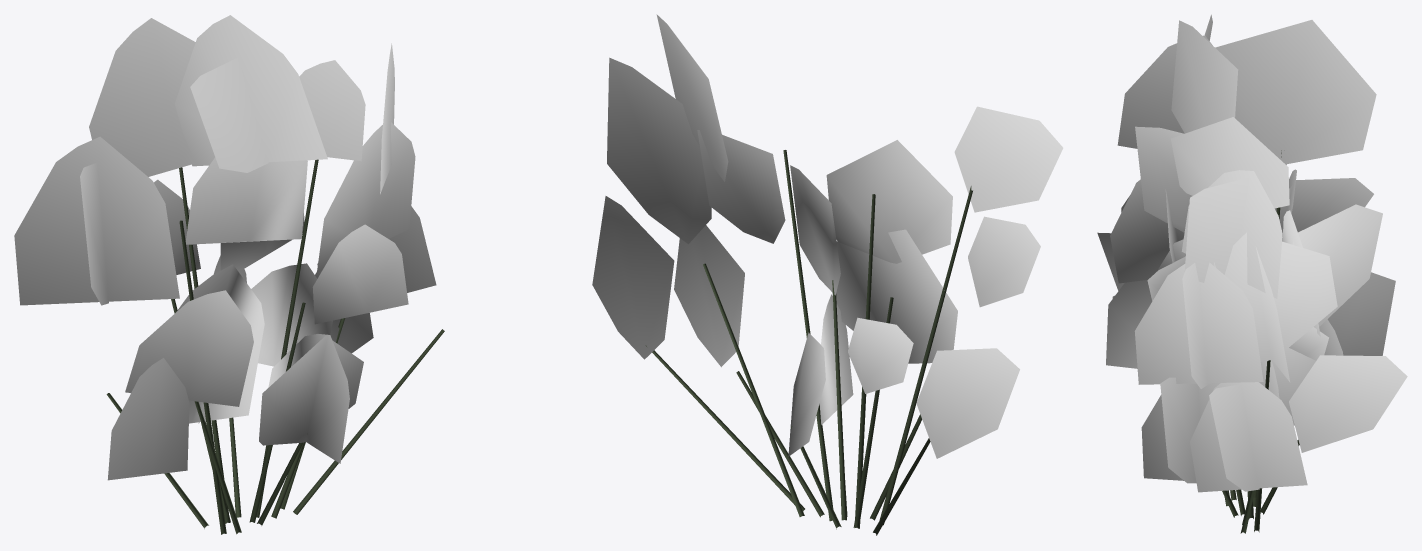
Rendered from bamboo_2.glb.
3 renders of one model, left to right at view 1: azimuth 30°, elevation 25°; view 2: azimuth 150°, elevation 25°; view 3: azimuth 270°, elevation 25°, orthographic. The views are drawn at different scales.
Parts seen in each view (by area): view 1: bamboo_2; view 2: bamboo_2; view 3: bamboo_2.
Boxes of the visible parts, x1=… form: bamboo_2: x1=14, y1=15, x2=444, y2=534; bamboo_2: x1=592, y1=14, x2=1063, y2=535; bamboo_2: x1=1097, y1=14, x2=1407, y2=533.
Bounding box in the file's own units: 4.7 × 4.77 × 2.78.
